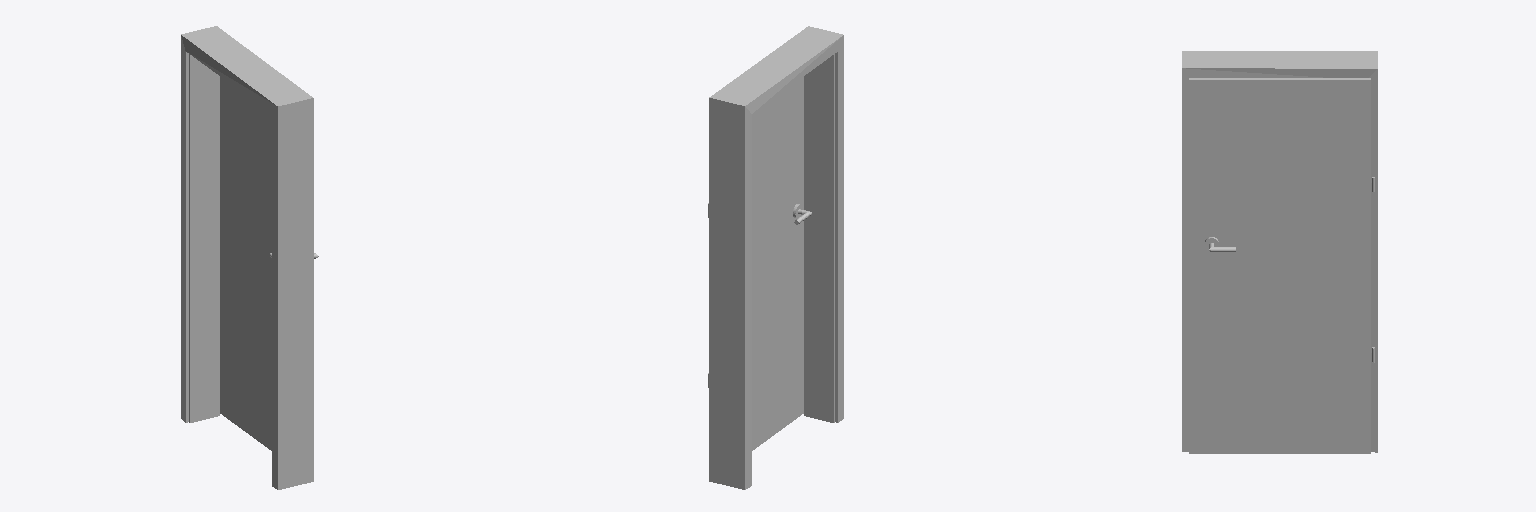
The model's file is door116.obj.
3 views of the same model, side by side, from view 1: azimuth 30°, elevation 25°; view 2: azimuth 150°, elevation 25°; view 3: azimuth 270°, elevation 25° (orthographic).
Parts seen in each view (by area): view 1: Cylinder.005, Cylinder.001; view 2: Cylinder.005, Cylinder.001; view 3: Cylinder.001, Cylinder.005.
Part boxes in pixels (x1,y1,x2,y2): Cylinder.005: (181, 26, 313, 489); Cylinder.001: (220, 77, 271, 450); Cylinder.005: (708, 26, 843, 489); Cylinder.001: (708, 77, 803, 450); Cylinder.001: (1189, 78, 1374, 453); Cylinder.005: (1182, 51, 1377, 452).
Bounding box in the file's own units: 0.3039 × 2.05 × 0.95.